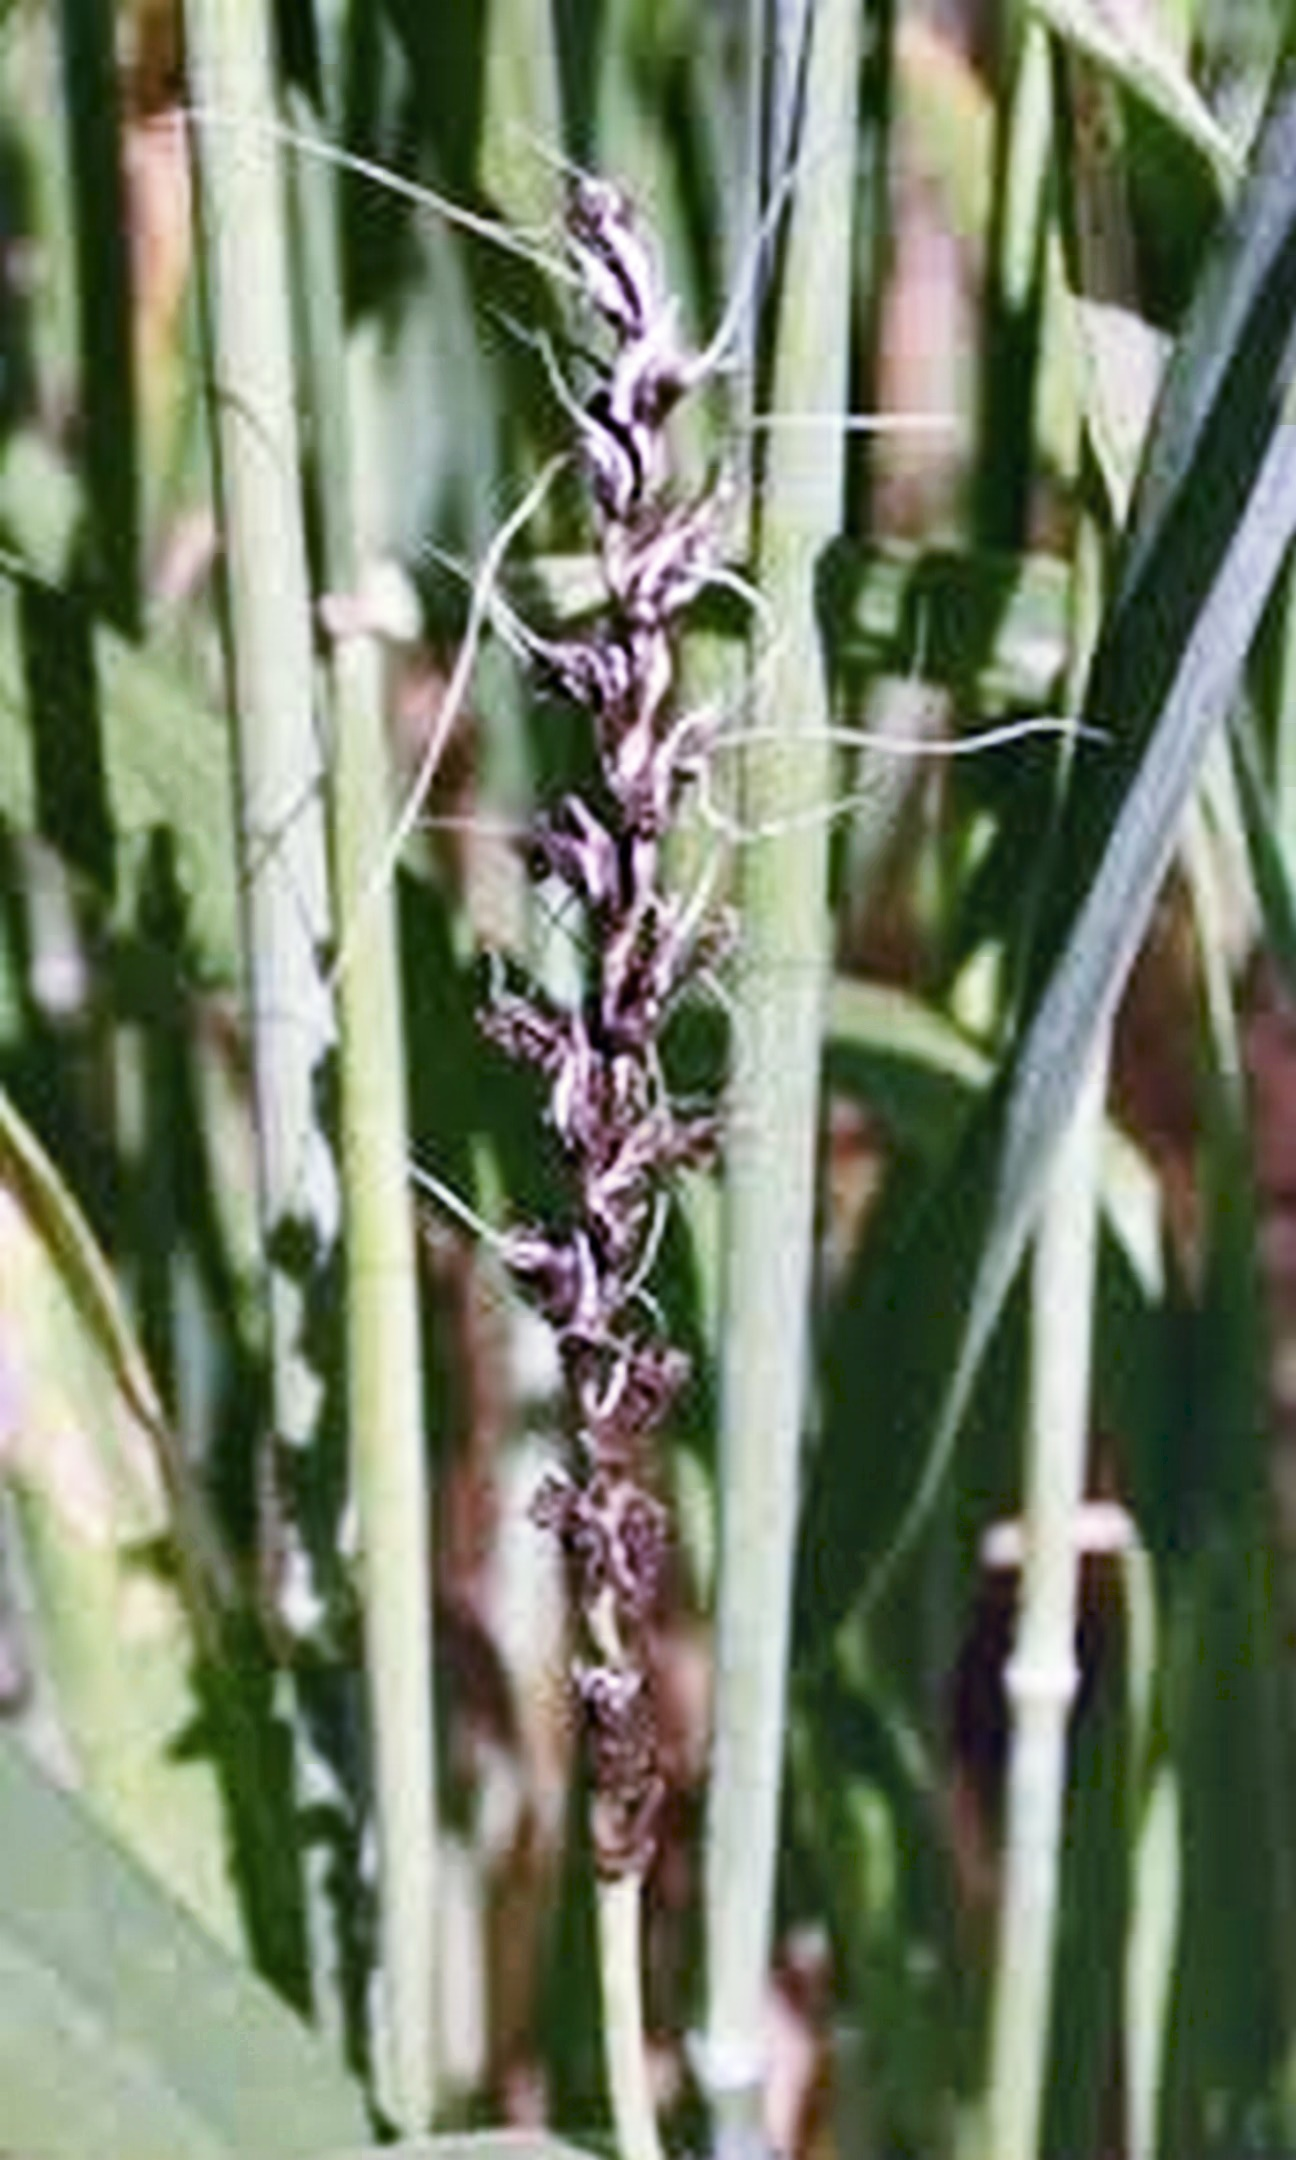Wheat Loose Smut: (489, 256, 773, 1859)
